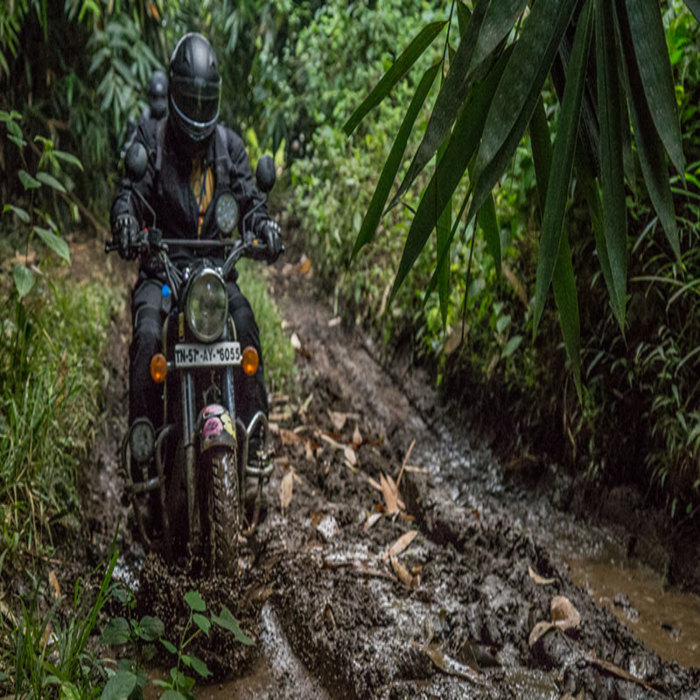h: (165, 31, 222, 145)
n: (171, 342, 242, 369)
